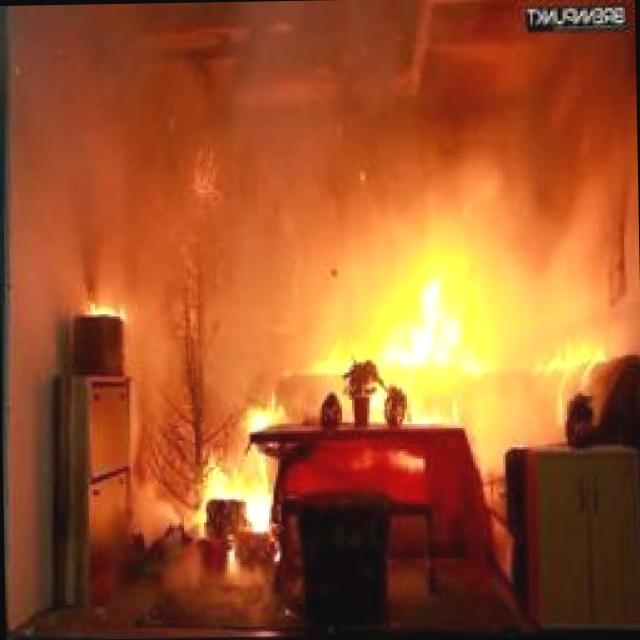fire: (112, 132, 639, 541)
